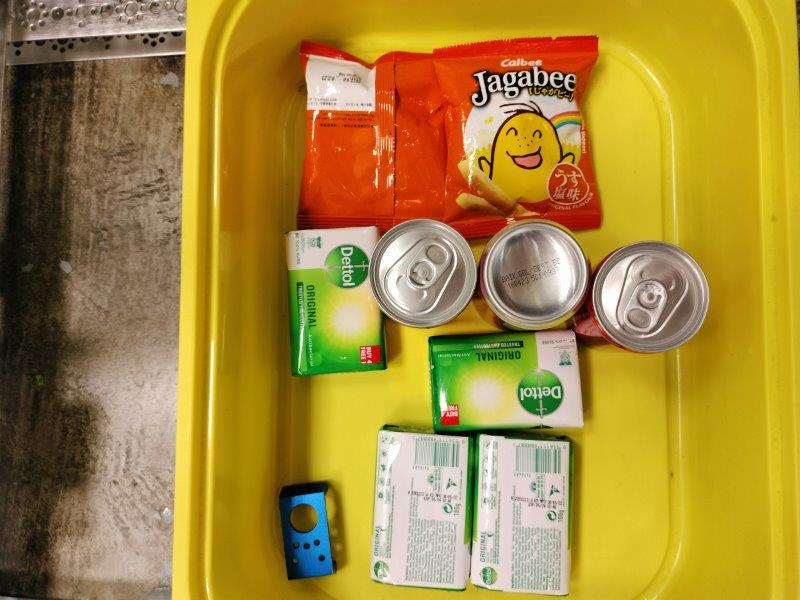Coke: (595, 244, 708, 353), (482, 222, 589, 328), (371, 220, 475, 326)
Dettol: (373, 426, 471, 594), (471, 435, 571, 597), (284, 226, 386, 376), (432, 335, 582, 432)
Jagabee: (437, 39, 602, 235), (299, 40, 452, 229)
